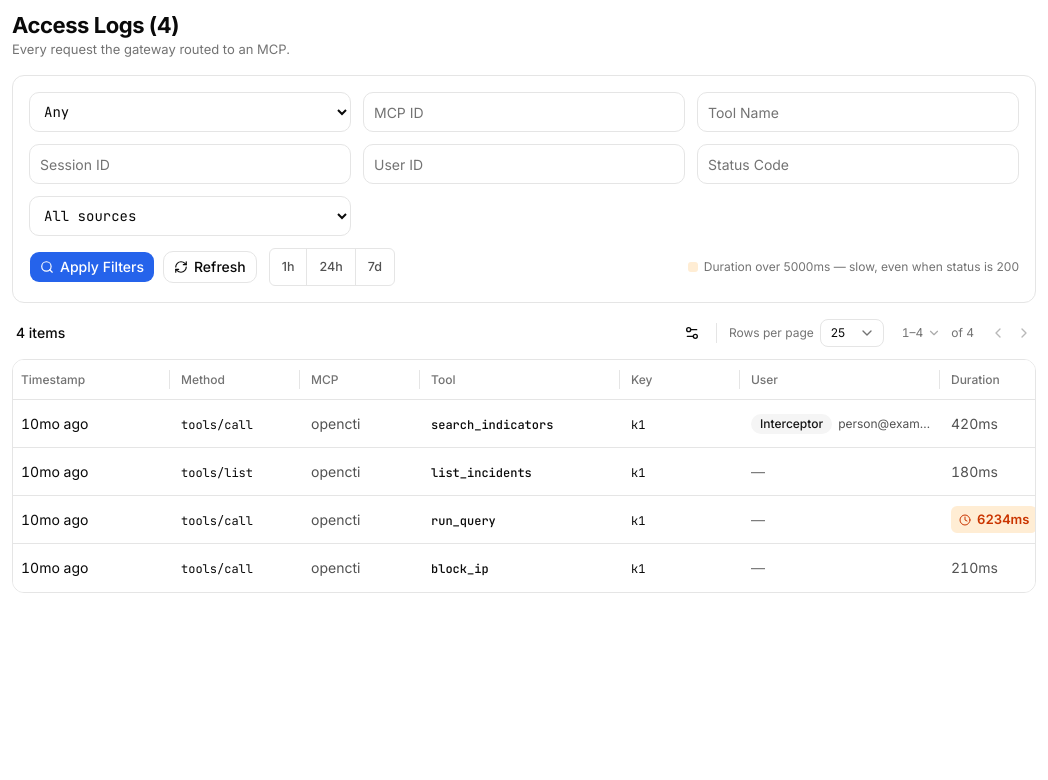
Scenario: AccessLogsPage › filtering by source commits it to the URL and refetches
expect the heading "Access Logs (4)" is shown: met, box x1=12 y1=12 x2=179 y2=38
Select "Interceptor" in the dropdown named "Source" at (190, 216), box x1=29 y1=196 x2=351 y2=236
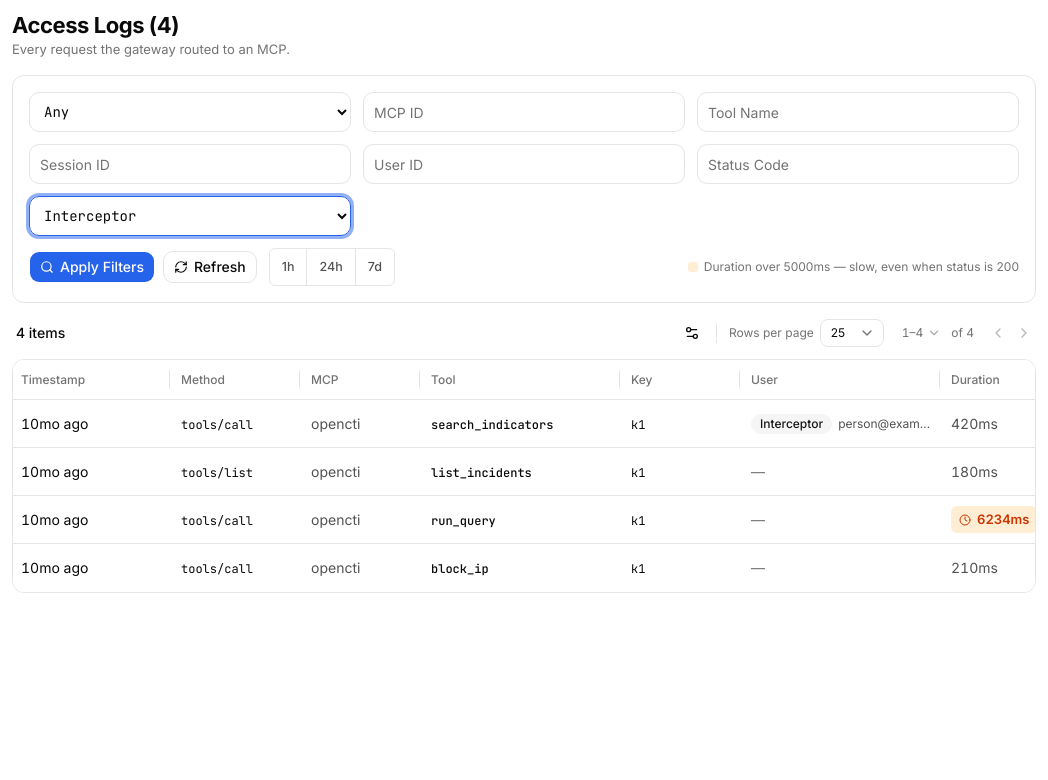
Click the button "Apply Filters" at (92, 267), box x1=29 y1=251 x2=155 y2=283
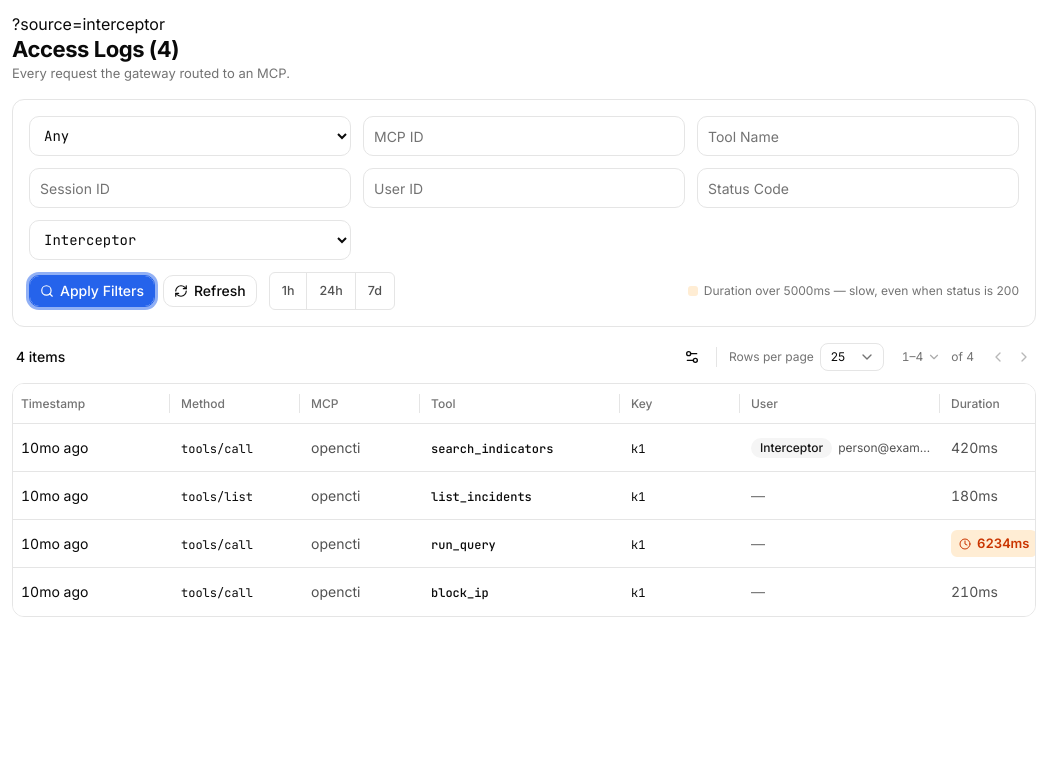
expect the text with test id "location-search" shows "source=interceptor": met, box x1=12 y1=14 x2=165 y2=34
